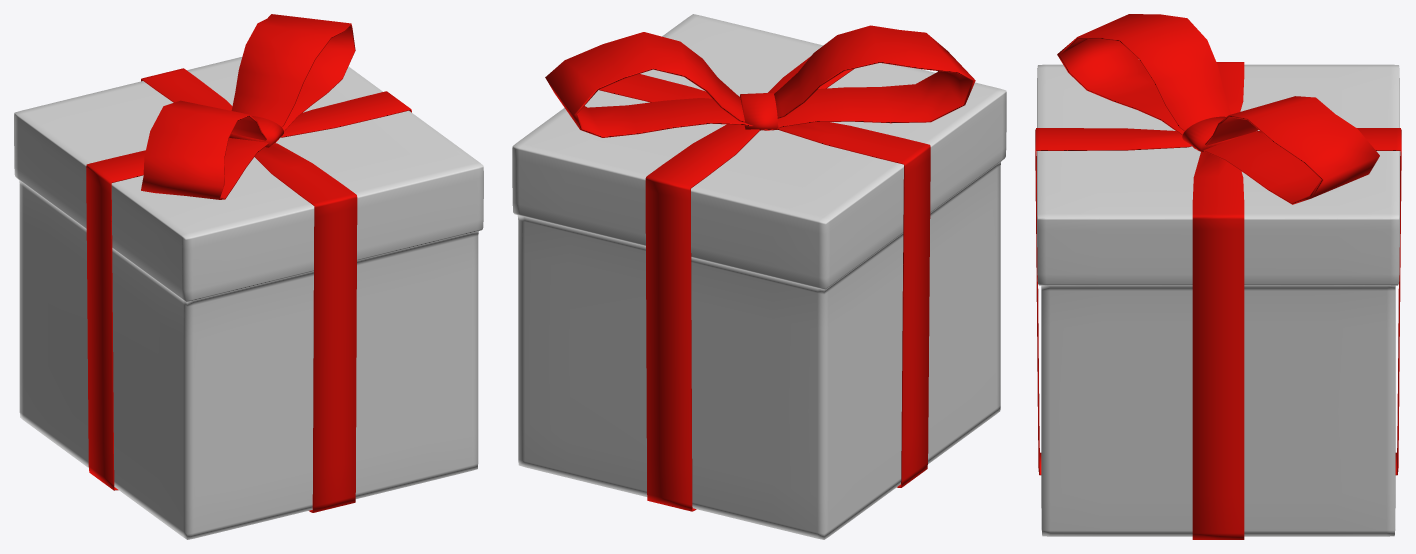
Rendered from gift_gltf.glb.
3 renders of one model, left to right at view 1: azimuth 30°, elevation 25°; view 2: azimuth 150°, elevation 25°; view 3: azimuth 270°, elevation 25°, orthographic. The views are drawn at different scales.
Visible parts, largest first — view 1: Cylinder; view 2: Cylinder; view 3: Cylinder.
Boxes of the visible parts, x1,y1,x2,y2 form: Cylinder: [14, 14, 483, 539]; Cylinder: [512, 14, 1006, 539]; Cylinder: [1035, 14, 1401, 539].
Bounding box in the file's own units: 2.12 × 2.47 × 2.07.
